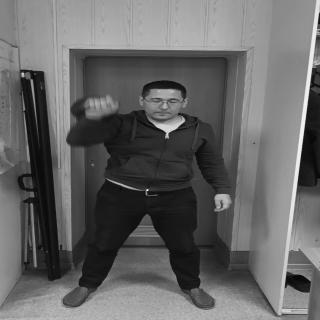girya: (70, 96, 120, 121)
